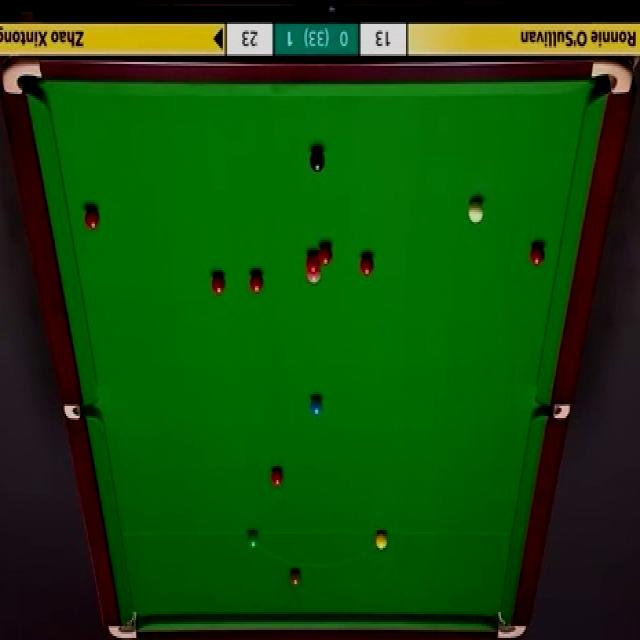black-ball: (308, 148, 326, 173)
blue-ball: (310, 397, 323, 416)
brown-ball: (290, 569, 302, 587)
green-ball: (247, 530, 260, 551)
pink-ball: (308, 266, 322, 282)
red-ball: (529, 243, 547, 266), (318, 243, 334, 266), (250, 270, 266, 293), (84, 209, 101, 230), (359, 254, 375, 276), (212, 272, 225, 295), (271, 466, 284, 487), (306, 253, 321, 269)
white-ball: (469, 199, 484, 224)
yellow-ball: (376, 532, 388, 550)
